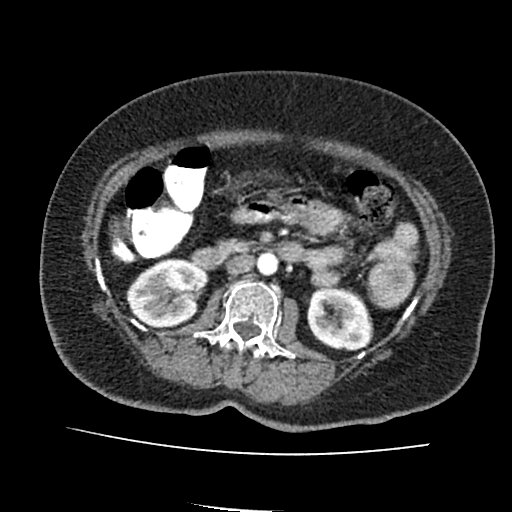aorta: (253, 249, 280, 276)
